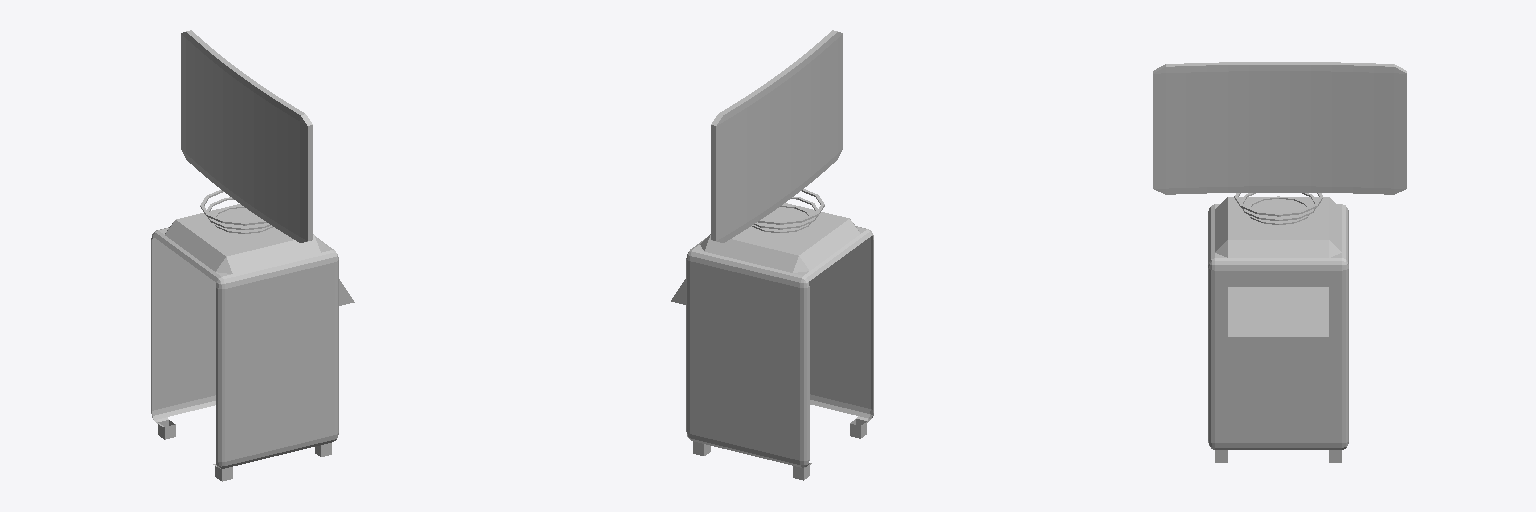
Rendered from Shop.obj.
3 views of the same model, side by side, from view 1: azimuth 30°, elevation 25°; view 2: azimuth 150°, elevation 25°; view 3: azimuth 270°, elevation 25° (orthographic).
Parts seen in each view (by area): view 1: Shop_low_Cube.044; view 2: Shop_low_Cube.044; view 3: Shop_low_Cube.044.
Part boxes in pixels (x1,y1,x2,y2): Shop_low_Cube.044: (151, 30, 354, 481); Shop_low_Cube.044: (671, 30, 873, 480); Shop_low_Cube.044: (1153, 62, 1406, 462).
Bounding box in the file's own units: 1.19 × 2.9 × 1.8.